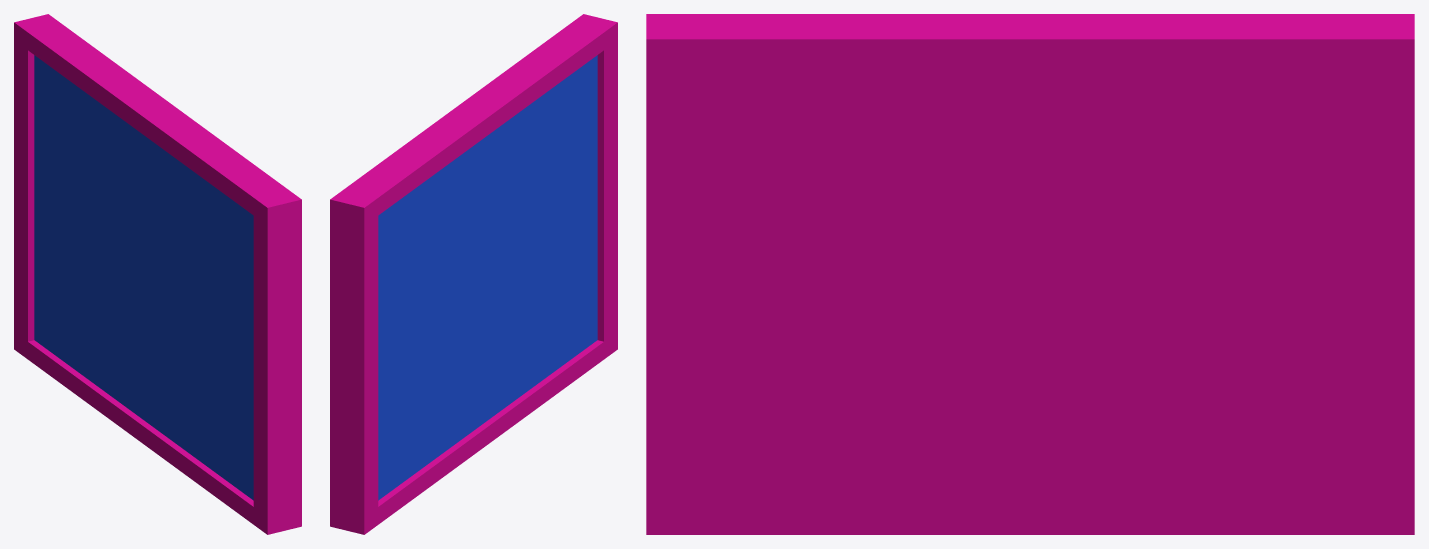
Rendered from Screen.fbx.
3 views of the same model, side by side, from view 1: azimuth 30°, elevation 25°; view 2: azimuth 150°, elevation 25°; view 3: azimuth 270°, elevation 25° (orthographic). The views are drawn at different scales.
Visible parts, largest first — view 1: Screen; view 2: Screen; view 3: Screen.
Boxes of the visible parts, box(x1,y1,x2,y2) form: Screen: box(14, 14, 301, 534); Screen: box(330, 14, 617, 534); Screen: box(646, 14, 1414, 534).
Bounding box in the file's own units: 21.96 × 200 × 281.
